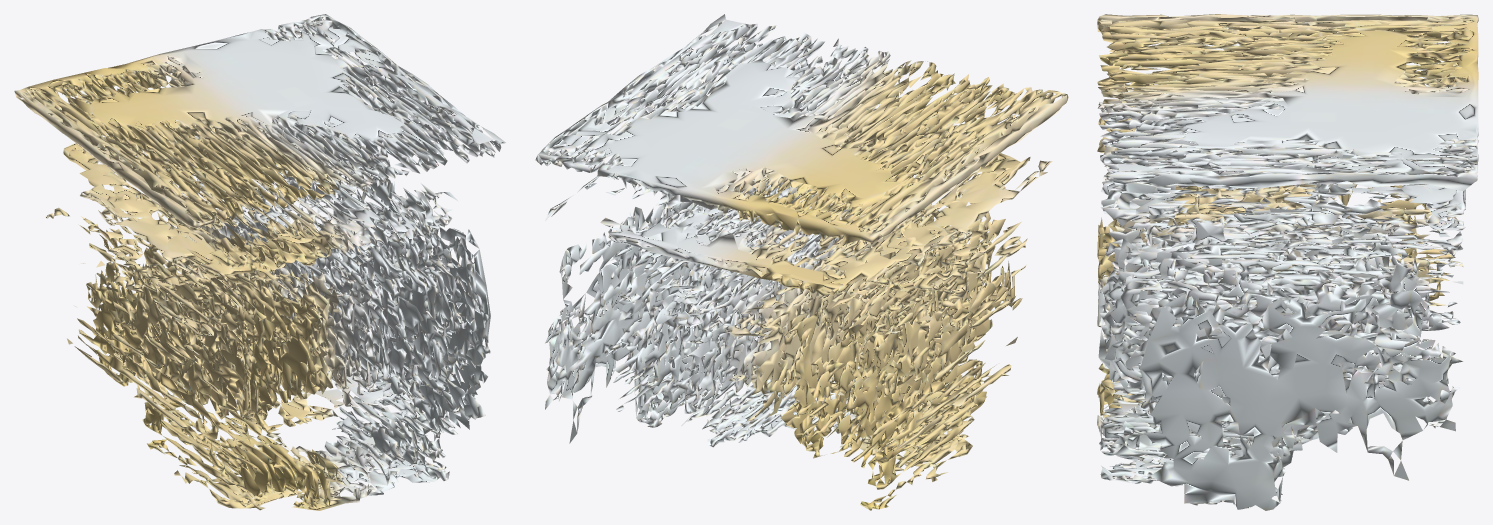
The model's file is workshop_workbench.glb.
3 views of the same model, side by side, from view 1: azimuth 30°, elevation 25°; view 2: azimuth 150°, elevation 25°; view 3: azimuth 270°, elevation 25° (orthographic). The views are drawn at different scales.
Visible parts, largest first — view 1: world; view 2: world; view 3: world.
Part boxes in pixels (x1=…): world: x1=14, y1=14, x2=505, y2=510; world: x1=535, y1=14, x2=1068, y2=510; world: x1=1097, y1=14, x2=1478, y2=510.
Size of the model in its own units: 0.9893 by 0.9646 by 0.9879.
1 material, 1 textured.
